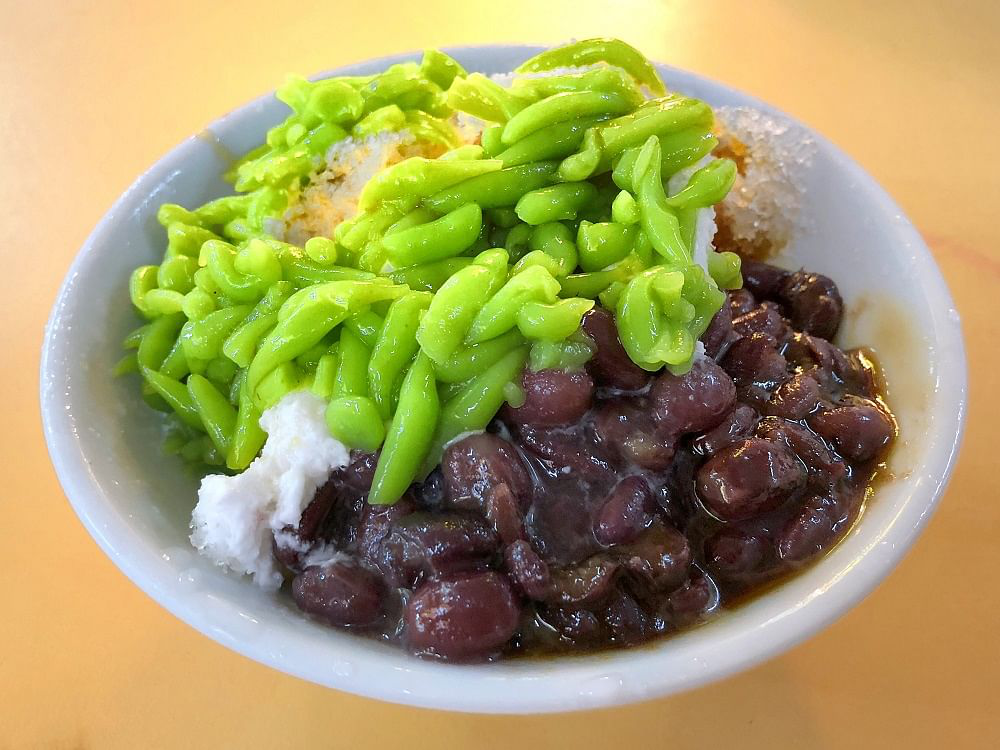Chendol: (128, 48, 896, 663)
